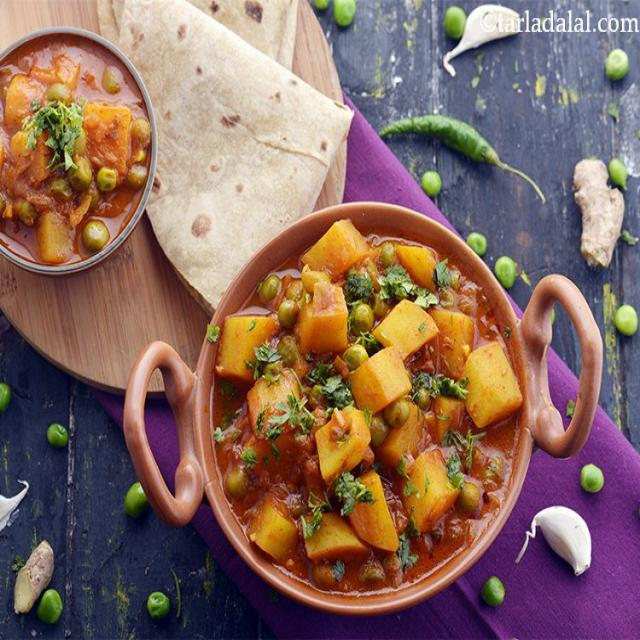Aloo Matar: (224, 220, 519, 572), (0, 48, 136, 262)
